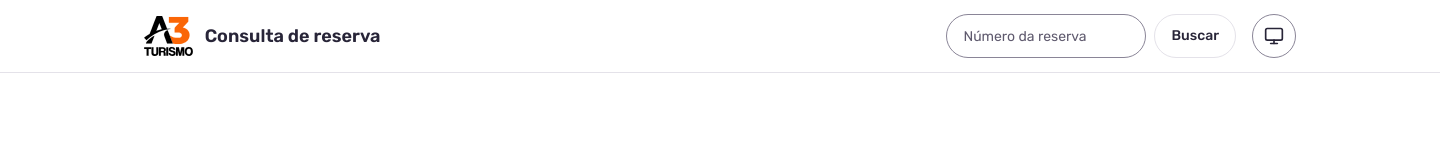
Test: letras digitadas na busca somem
In the field labelled "Número da reserva": [1046, 36] box [946, 14, 1146, 58], type "9000x1"
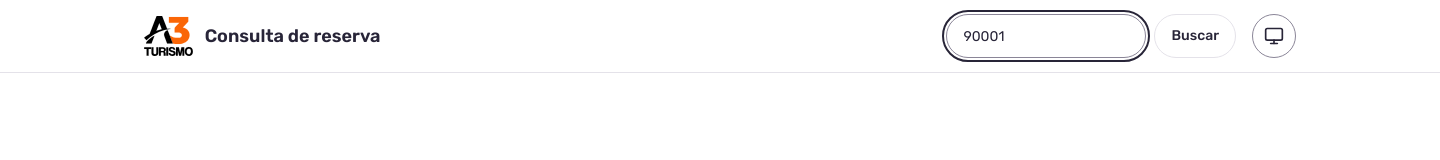
Result: the field named "Número da reserva" holds "90001" at [946, 14, 1146, 58]
